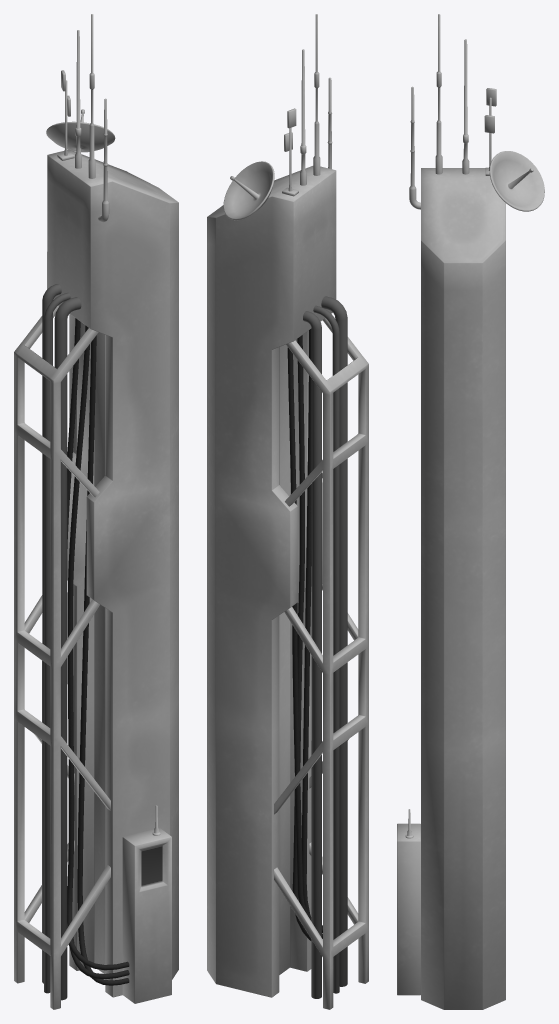
File: Antenne final.fbx
3 renders of one model, left to right at view 1: azimuth 30°, elevation 25°; view 2: azimuth 150°, elevation 25°; view 3: azimuth 270°, elevation 25°, orthographic. The views are drawn at different scales.
Visible parts, largest first — view 1: small antennas_low; view 2: small antennas_low; view 3: small antennas_low.
Boxes of the visible parts, x1,y1,x2,y2 form: small antennas_low: (14, 14, 178, 1009); small antennas_low: (207, 14, 368, 1009); small antennas_low: (397, 14, 544, 1009).
Bounding box in the file's own units: 174 × 1200 × 169.
1 material, 1 textured.
